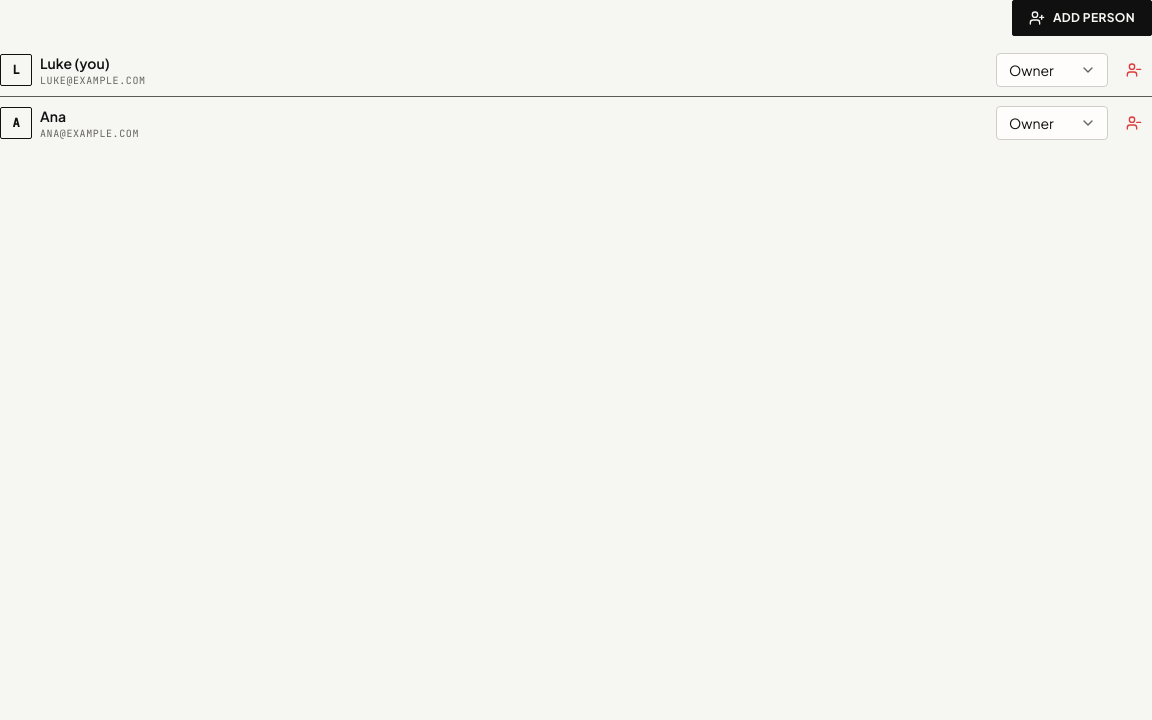
removing yourself says so in the confirm
Click the button named "Remove Luke" at (1134,70), box [1116,52,1151,88]
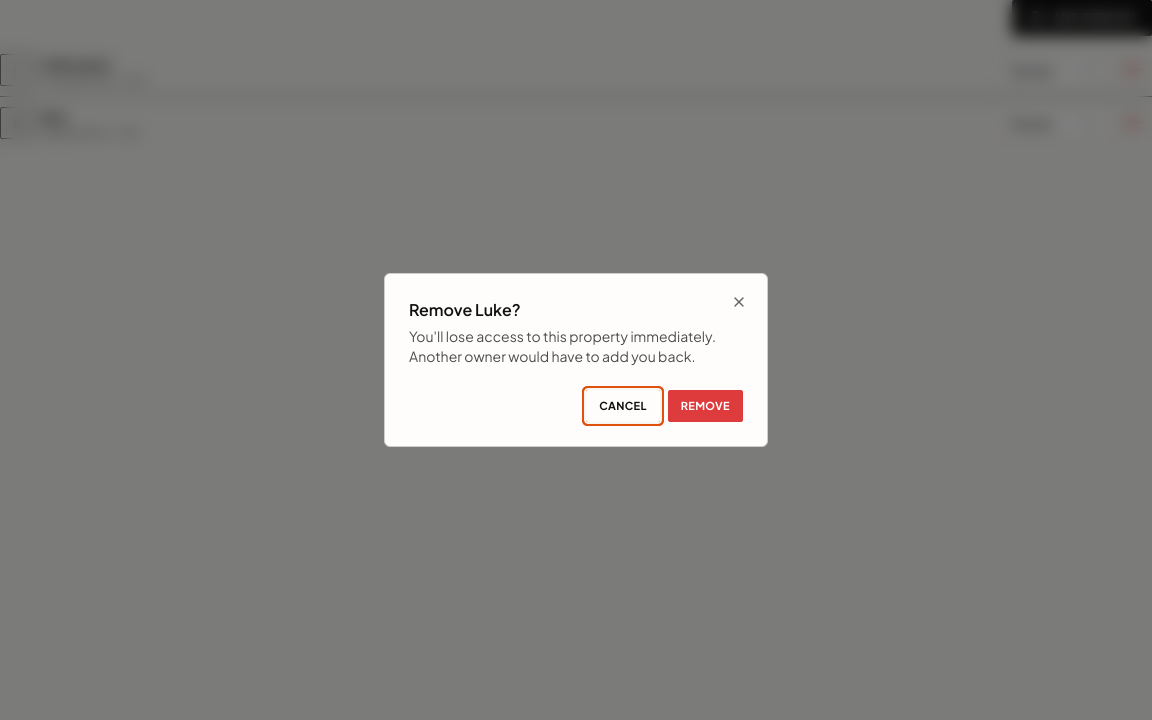
Now the text "You'll lose access" is shown, box [409,327,716,365]
